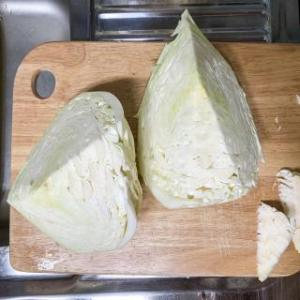cabbage: (136, 19, 262, 205), (6, 89, 144, 251)
